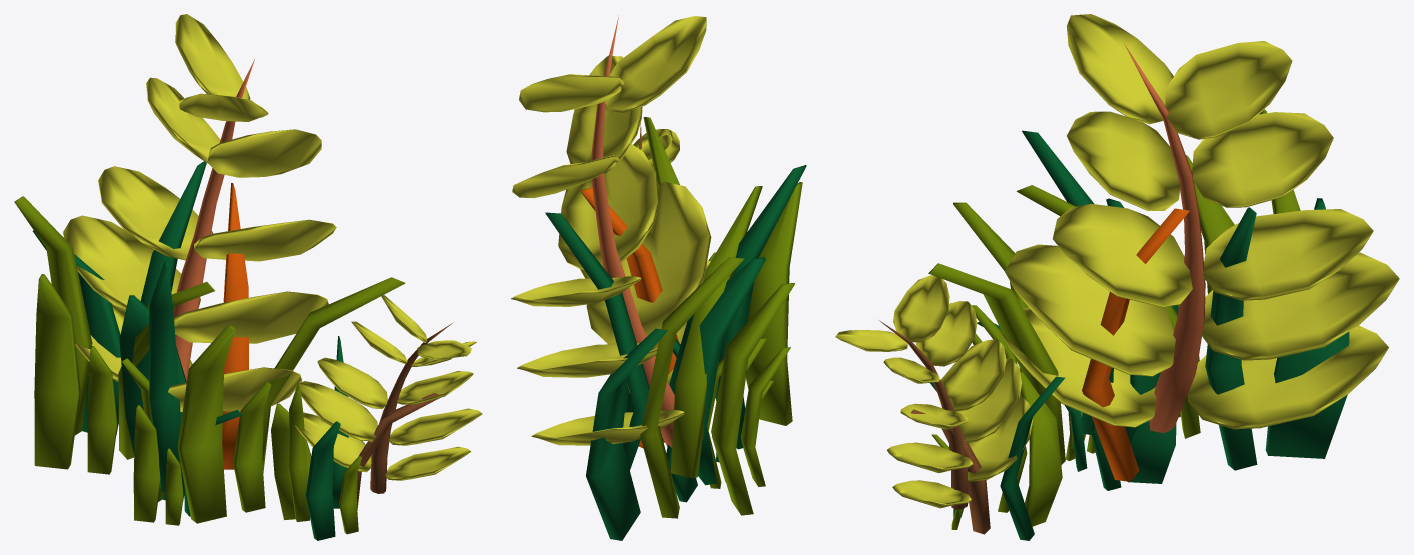
Rendered from Grass_09.fbx.
3 views of the same model, side by side, from view 1: azimuth 30°, elevation 25°; view 2: azimuth 150°, elevation 25°; view 3: azimuth 270°, elevation 25° (orthographic). The views are drawn at different scales.
Visible parts, largest first — view 1: grass_09; view 2: grass_09; view 3: grass_09.
Boxes of the visible parts, <box> form: grass_09: <box>14,14,482,540</box>; grass_09: <box>511,15,806,540</box>; grass_09: <box>835,14,1399,540</box>.
Size of the model in its own units: 125 by 161 by 171.
1 material, 1 textured.
